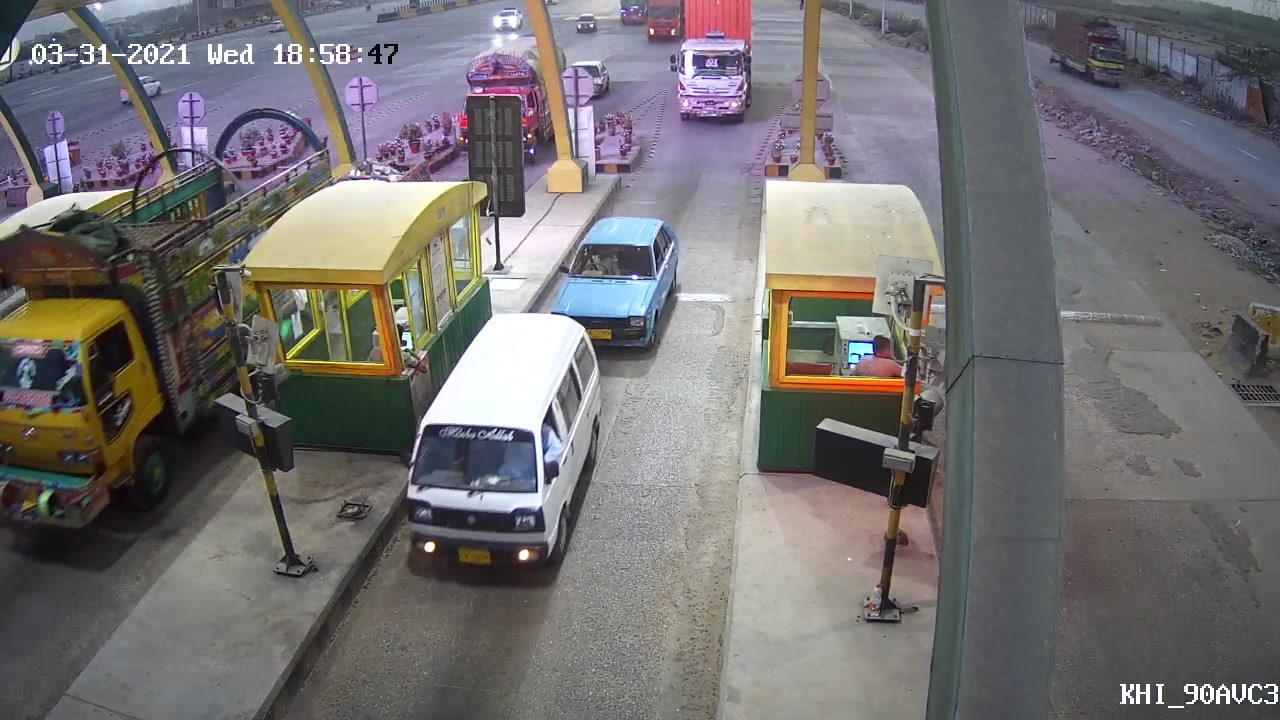F1: (397, 311, 610, 579), (545, 213, 687, 363)
